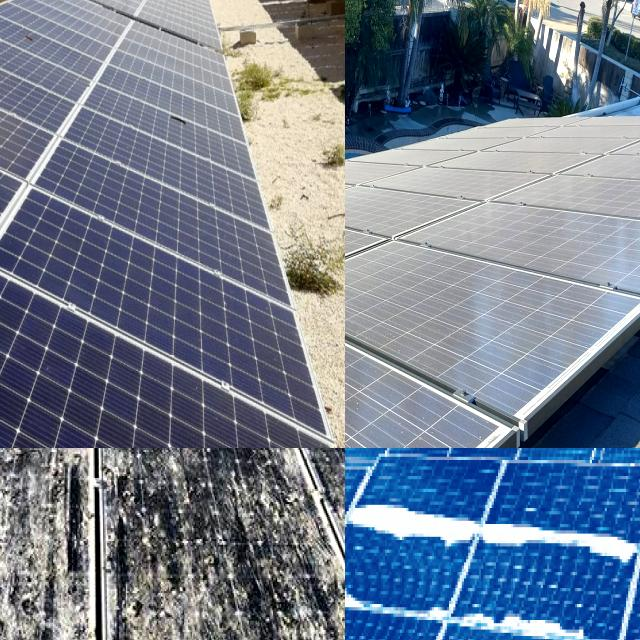bird: (0, 448, 79, 607), (228, 556, 316, 640), (129, 561, 212, 640)
crack: (0, 172, 343, 445), (0, 243, 345, 448), (27, 118, 306, 310), (31, 72, 270, 242), (80, 61, 306, 210), (0, 67, 168, 251), (0, 28, 128, 197), (0, 0, 111, 142), (0, 0, 94, 163)
dust: (368, 260, 538, 368), (345, 362, 475, 448), (517, 134, 640, 212), (440, 140, 512, 245), (530, 222, 640, 281), (345, 171, 430, 227), (345, 198, 400, 284), (345, 236, 387, 338), (357, 365, 395, 448), (345, 312, 377, 347)
panel: (488, 494, 629, 594), (345, 466, 477, 559), (348, 478, 479, 571), (458, 578, 580, 640), (345, 555, 406, 633), (345, 571, 406, 625), (345, 572, 376, 626), (345, 494, 381, 530), (345, 509, 360, 552), (345, 452, 375, 471), (345, 513, 364, 540)
